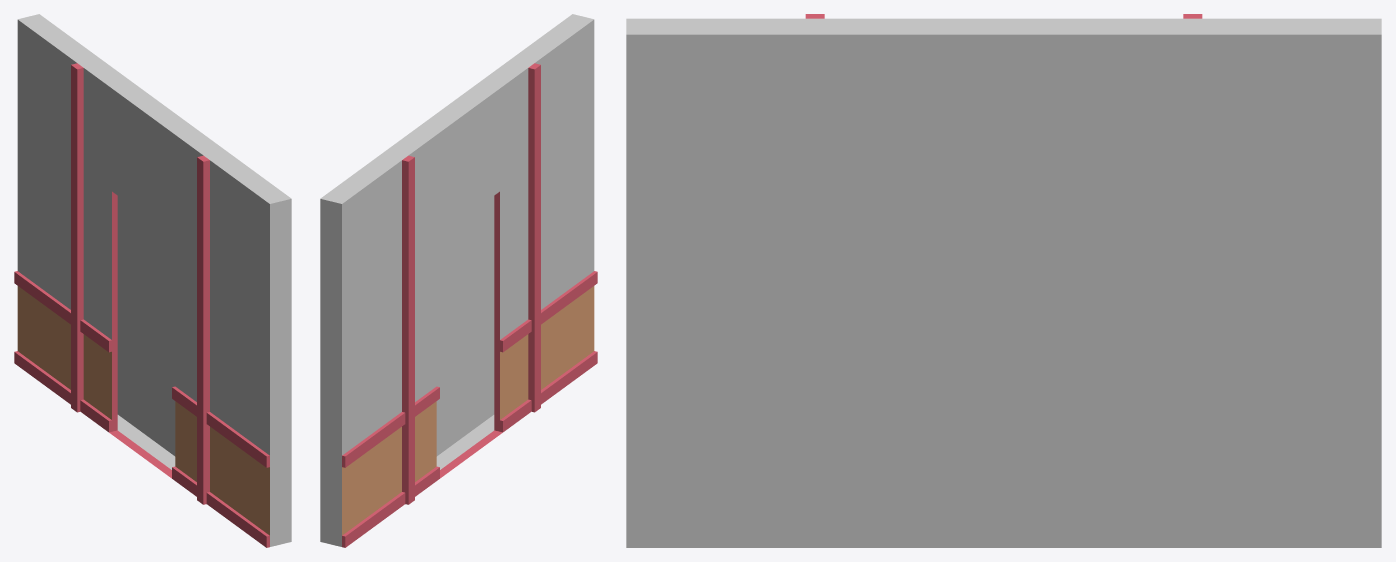
The model's file is Wall_StraightLongWithDoorway.fbx.
3 views of the same model, side by side, from view 1: azimuth 30°, elevation 25°; view 2: azimuth 150°, elevation 25°; view 3: azimuth 270°, elevation 25° (orthographic). The views are drawn at different scales.
Visible parts, largest first — view 1: Wall_StraightLongWithDoorway; view 2: Wall_StraightLongWithDoorway; view 3: Wall_StraightLongWithDoorway.
Part boxes in pixels (left/top/right/bottom): Wall_StraightLongWithDoorway: left=14, top=14, right=291, bottom=547; Wall_StraightLongWithDoorway: left=320, top=14, right=597, bottom=547; Wall_StraightLongWithDoorway: left=626, top=14, right=1381, bottom=547.
Size of the model in its own units: 26 by 300 by 400.
